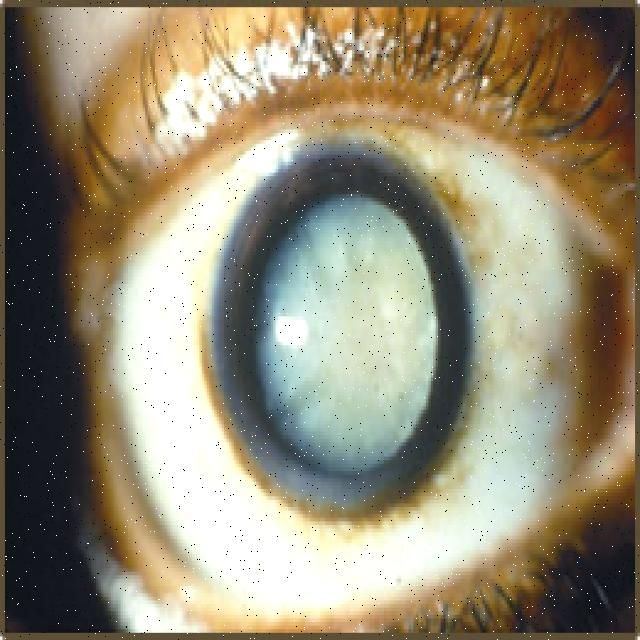Cataract: (157, 55, 512, 574)
